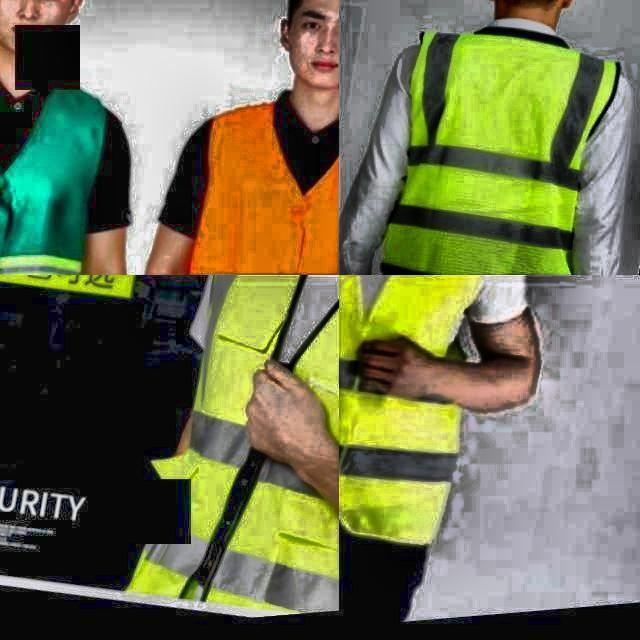safety_jacket: (134, 275, 339, 629), (370, 24, 622, 275), (339, 275, 507, 561), (144, 92, 339, 275), (0, 57, 125, 275)
